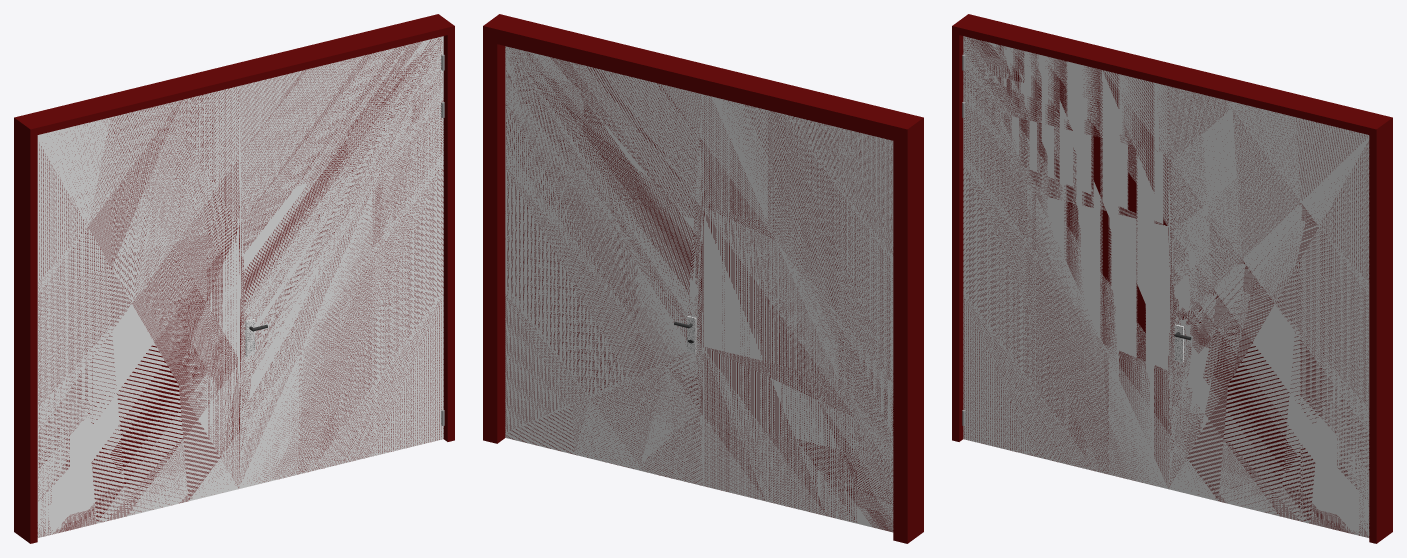
3 views of the same model, side by side, from view 1: azimuth 30°, elevation 25°; view 2: azimuth 150°, elevation 25°; view 3: azimuth 330°, elevation 25° (orthographic).
Visible parts, largest first — view 1: group_25, group_14, group_0; view 2: group_25, group_14, group_0; view 3: group_14, group_25, group_0.
Boxes of the visible parts, bbox=[...] form: group_25: bbox=[238, 36, 443, 488]; group_14: bbox=[37, 86, 238, 537]; group_0: bbox=[14, 14, 454, 543]; group_25: bbox=[505, 46, 703, 486]; group_14: bbox=[703, 94, 893, 532]; group_0: bbox=[483, 14, 923, 543]; group_14: bbox=[963, 36, 1168, 488]; group_25: bbox=[1168, 86, 1369, 537]; group_0: bbox=[952, 14, 1392, 543].
Bounding box in the file's own units: 118 × 7.87 × 110.
